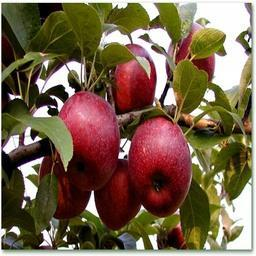apple: (125, 116, 192, 220), (57, 91, 119, 190), (38, 147, 91, 218), (110, 43, 157, 113), (94, 158, 138, 229)
